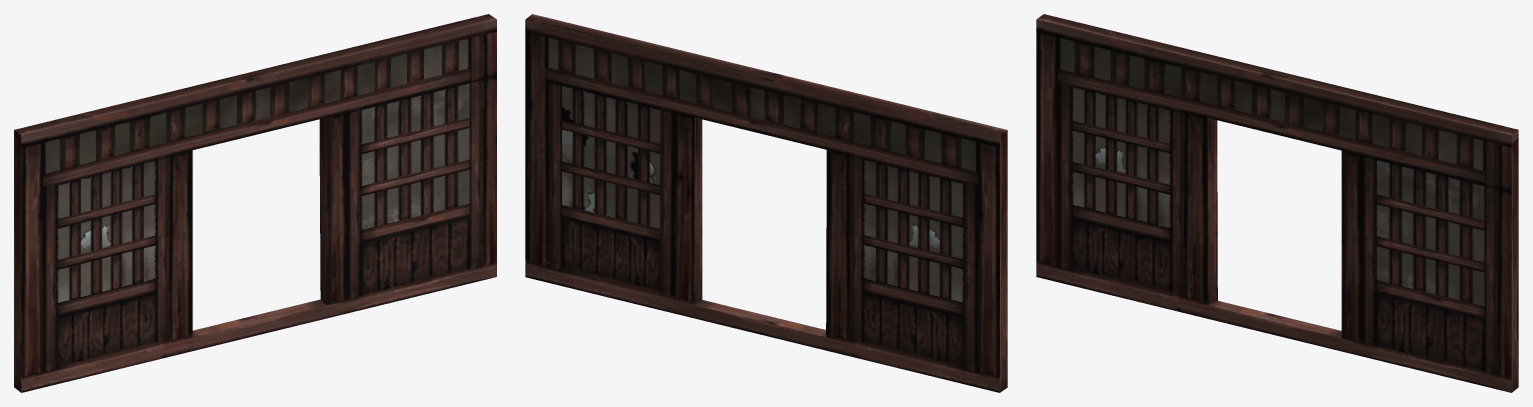
Rendered from STR_WallHouseA01.FBX.
The picture shows the model from 3 angles, left to right: view 1: azimuth 30°, elevation 25°; view 2: azimuth 150°, elevation 25°; view 3: azimuth 330°, elevation 25°; orthographic projection.
Parts seen in each view (by area): view 1: STR_WallHouseA01; view 2: STR_WallHouseA01; view 3: STR_WallHouseA01.
Boxes of the visible parts, x1,y1,x2,y2 form: STR_WallHouseA01: (14, 14, 496, 392); STR_WallHouseA01: (525, 14, 1007, 392); STR_WallHouseA01: (1036, 14, 1518, 392).
Size of the model in its own units: 666 by 345 by 18.29.
